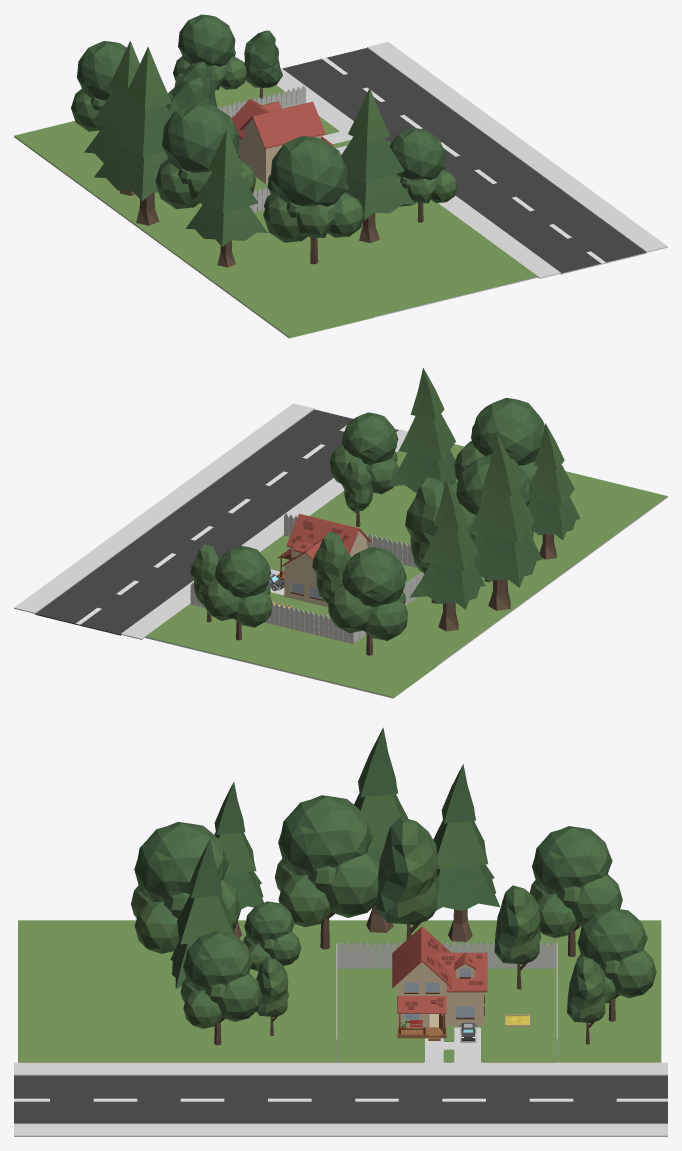
Rendered from house3.glb.
3 views of the same model, one above another, from view 1: azimuth 30°, elevation 25°; view 2: azimuth 150°, elevation 25°; view 3: azimuth 270°, elevation 25° (orthographic). The views are drawn at different scales.
Visible parts, largest first — view 1: gras, Cube.002, tree-lime.006, tree-spruce.002, tree-lime.002, tree-spruce.003, tree-spruce.005, tree-lime.004, tree-lime, roof, tree-lime.001, tree-spruce (+5 smaller); view 2: Cube.002, gras, tree-spruce.002, tree-lime.001, tree-spruce, tree-lime, tree-spruce.003, tree-lime.006, tree-spruce.005, tree-lime.004, Cube.032, tree-beech.002 (+6 smaller); view 3: gras, Cube.002, tree-lime.002, tree-lime.006, tree-lime.001, tree-lime.004, tree-spruce, tree-beech.002, tree-lime, roof, tree-spruce.002, tree-spruce.003 (+9 smaller).
Boxes of the visible parts, x1,y1,x2,y2 form: gras: [14, 80, 537, 338]; Cube.002: [277, 42, 667, 278]; tree-lime.006: [263, 136, 364, 264]; tree-spruce.002: [94, 46, 171, 225]; tree-lime.002: [155, 102, 256, 209]; tree-spruce.003: [341, 88, 415, 243]; tree-spruce.005: [185, 129, 267, 267]; tree-lime.004: [389, 128, 457, 222]; tree-lime: [173, 14, 246, 89]; roof: [232, 99, 334, 148]; tree-lime.001: [71, 41, 126, 131]; tree-spruce: [84, 41, 139, 195]; Cube.002: [14, 403, 407, 639]; gras: [145, 444, 667, 698]; tree-spruce.002: [468, 435, 542, 610]; tree-lime.001: [328, 547, 407, 655]; tree-spruce: [409, 478, 485, 631]; tree-lime: [203, 546, 272, 640]; tree-spruce.003: [387, 368, 456, 492]; tree-lime.006: [454, 397, 544, 502]; tree-spruce.005: [528, 423, 580, 559]; tree-lime.004: [330, 412, 398, 506]; Cube.032: [190, 513, 424, 644]; tree-beech.002: [405, 477, 444, 603]; gras: [18, 920, 661, 1062]; Cube.002: [14, 1062, 667, 1136]; tree-lime.002: [274, 795, 379, 949]; tree-lime.006: [131, 822, 241, 953]; tree-lime.001: [529, 826, 622, 956]; tree-lime.004: [180, 931, 262, 1045]; tree-spruce: [433, 764, 499, 941]; tree-beech.002: [375, 817, 439, 939]; tree-lime: [577, 907, 656, 1021]; roof: [392, 926, 487, 1013]; tree-spruce.002: [354, 727, 407, 932]; tree-spruce.003: [170, 839, 234, 988].
Size of the model in its own units: 43.73 by 18.25 by 52.91.
42 materials, 3 textured.
